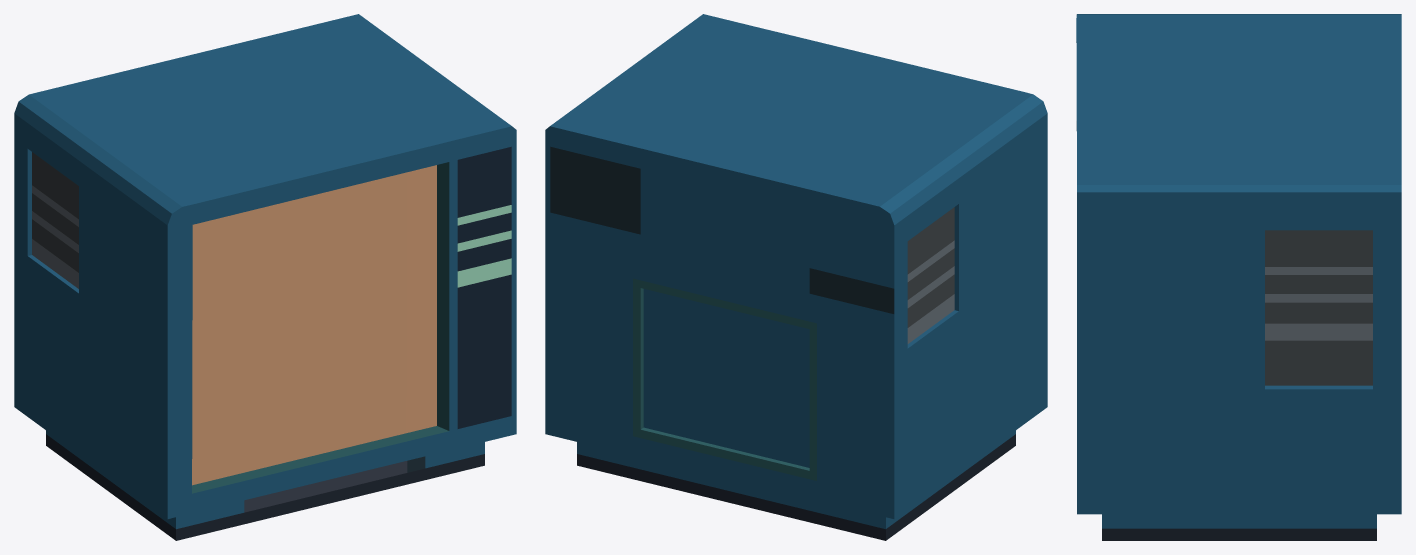
The model's file is Prop_TV08.fbx.
The picture shows the model from 3 angles, left to right: view 1: azimuth 30°, elevation 25°; view 2: azimuth 150°, elevation 25°; view 3: azimuth 270°, elevation 25°; orthographic projection. The views are drawn at different scales.
Visible parts, largest first — view 1: Cube.435; view 2: Cube.435; view 3: Cube.435.
Boxes of the visible parts, <box> form: Cube.435: <box>14,14,516,540</box>; Cube.435: <box>545,14,1047,540</box>; Cube.435: <box>1076,14,1401,540</box>.
Size of the model in its own units: 55.14 by 51.95 by 42.05.
